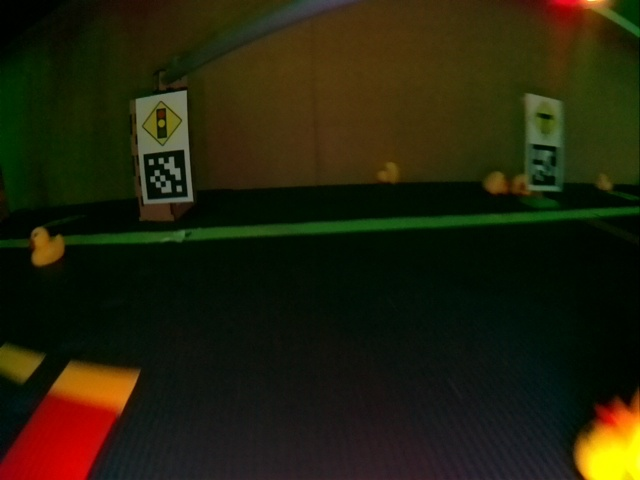Duckie: (573, 397, 639, 477), (30, 226, 65, 265), (484, 171, 507, 194), (376, 162, 399, 184), (511, 174, 530, 195), (597, 175, 613, 191)
Intersection sign: (525, 95, 563, 142)
QR code: (144, 153, 191, 200), (527, 146, 561, 187)
Signal sign: (140, 97, 187, 146)
